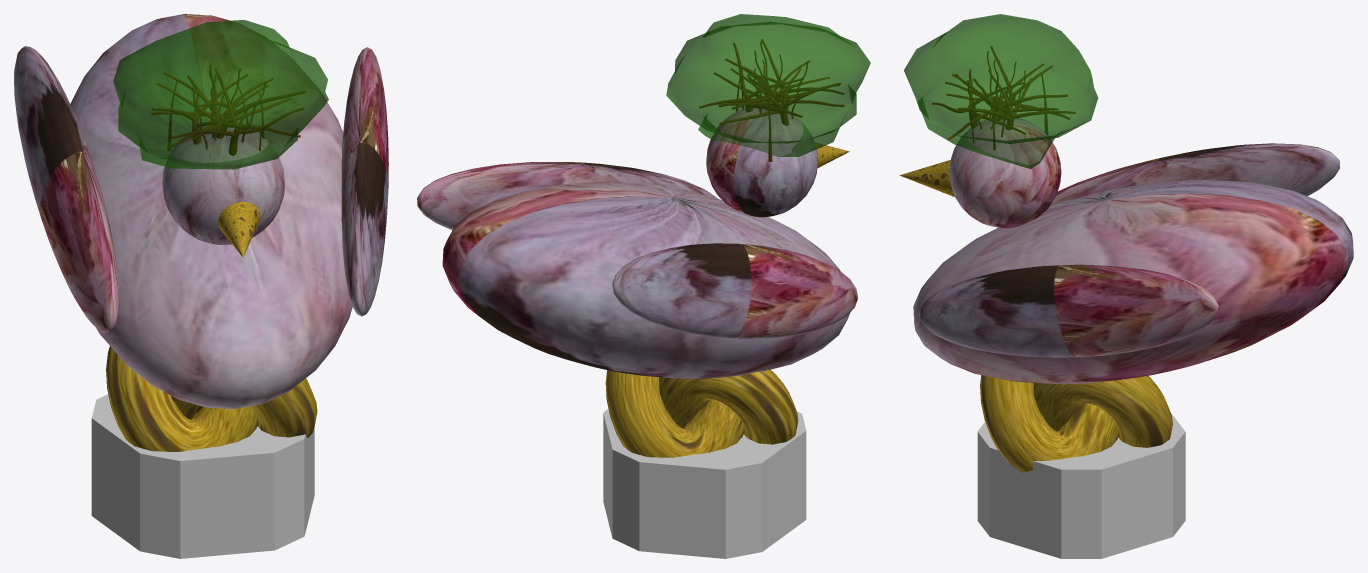
The model's file is birdi 1.FBX.
3 views of the same model, side by side, from view 1: azimuth 30°, elevation 25°; view 2: azimuth 150°, elevation 25°; view 3: azimuth 270°, elevation 25° (orthographic). The views are drawn at different scales.
Parts seen in each view (by area): view 1: Sphere001, Foliage001, Gengon001, Sphere004, Torus Knot001, Sphere003, Sphere002, Cone001; view 2: Sphere001, Foliage001, Gengon001, Sphere004, Torus Knot001, Sphere002, Sphere003; view 3: Sphere001, Sphere003, Foliage001, Gengon001, Torus Knot001, Sphere002, Sphere004, Cone001.
Part boxes in pixels (left/top/right/bottom): Sphere001: left=70, top=14, right=352, bottom=409; Foliage001: left=113, top=20, right=328, bottom=169; Gengon001: left=91, top=394, right=314, bottom=558; Sphere004: left=14, top=46, right=119, bottom=332; Torus Knot001: left=106, top=346, right=317, bottom=451; Sphere003: left=341, top=47, right=388, bottom=316; Sphere002: left=162, top=125, right=284, bottom=244; Cone001: left=218, top=202, right=260, bottom=257; Sphere001: left=442, top=182, right=849, bottom=378; Foliage001: left=666, top=14, right=870, bottom=162; Gengon001: left=603, top=409, right=806, bottom=558; Sphere004: left=612, top=243, right=857, bottom=339; Torus Knot001: left=605, top=369, right=798, bottom=457; Sphere002: left=706, top=108, right=817, bottom=217; Sphere003: left=417, top=162, right=717, bottom=230; Sphere001: left=913, top=180, right=1353, bottom=384; Sphere003: left=919, top=264, right=1218, bottom=357; Foliage001: left=904, top=14, right=1098, bottom=168; Gengon001: left=977, top=413, right=1185, bottom=558; Torus Knot001: left=980, top=375, right=1172, bottom=472; Sphere002: left=949, top=118, right=1061, bottom=228; Sphere004: left=1050, top=143, right=1339, bottom=206; Cone001: left=899, top=160, right=954, bottom=196.
Bounding box in the file's own units: 40.06 × 51.46 × 45.97.
